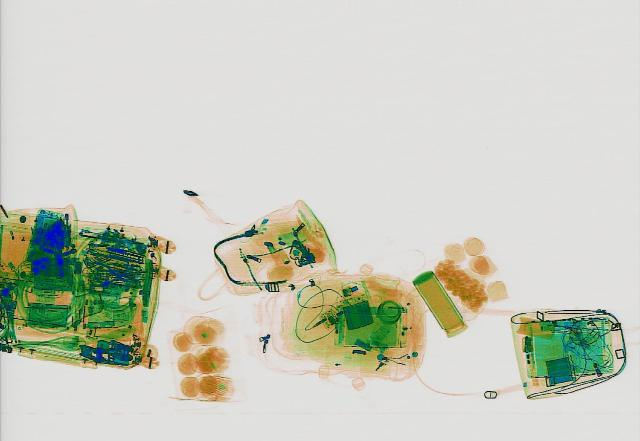Pliers: (85, 260, 132, 289)
